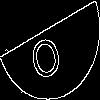O: (25, 25, 64, 84)
